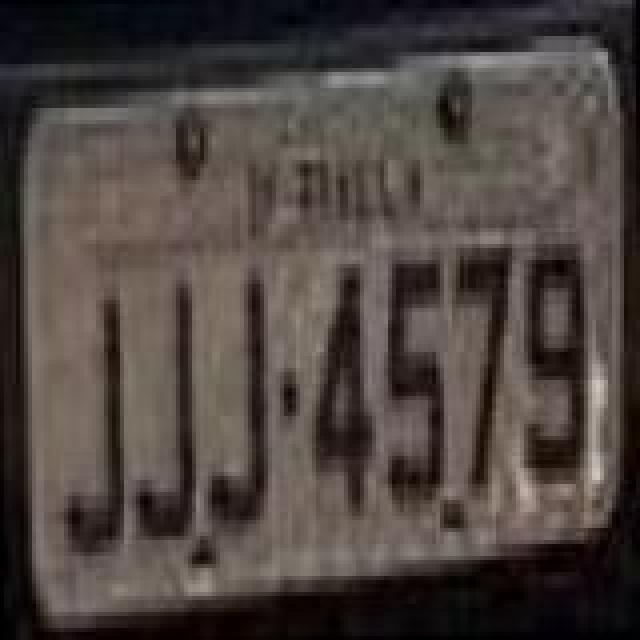4: (310, 256, 382, 524)
5: (384, 252, 452, 508)
7: (450, 248, 522, 504)
9: (520, 246, 592, 482)
J: (126, 268, 198, 552), (58, 294, 130, 562), (202, 266, 274, 534)
